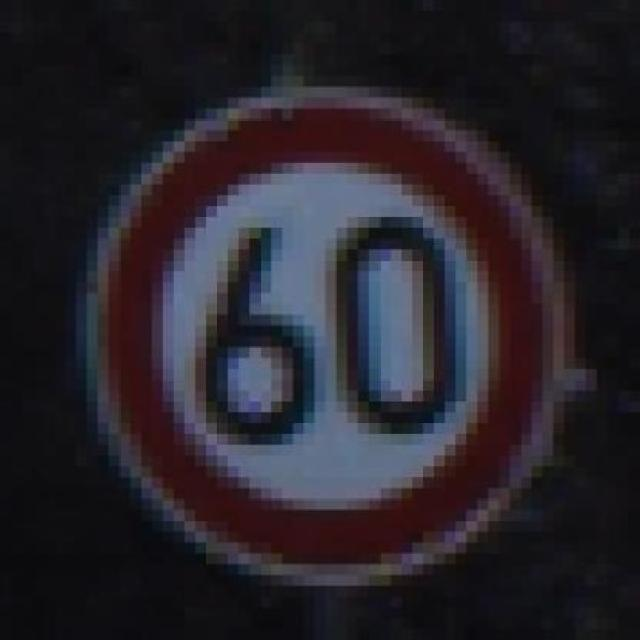forb_speed_over_60: (99, 100, 558, 572)
